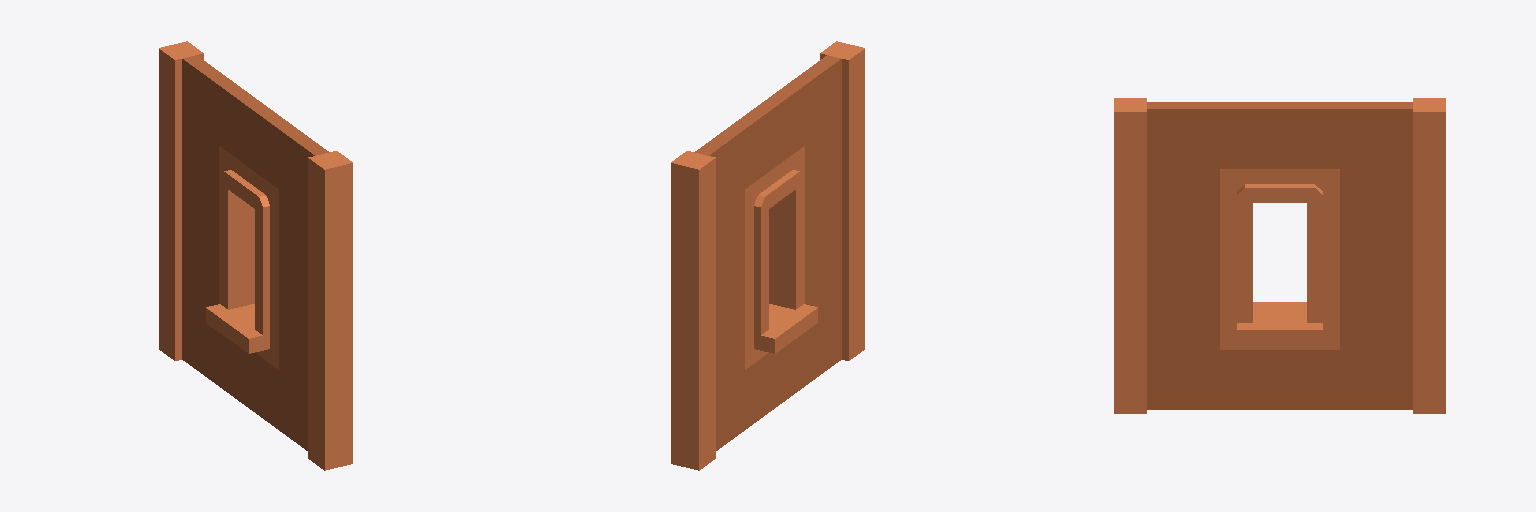
Rendered from wallWoodWindowSmall.obj.
3 renders of one model, left to right at view 1: azimuth 30°, elevation 25°; view 2: azimuth 150°, elevation 25°; view 3: azimuth 270°, elevation 25°, orthographic.
Visible parts, largest first — view 1: wallWoodWindowSmall; view 2: wallWoodWindowSmall; view 3: wallWoodWindowSmall.
Part boxes in pixels (x1,y1,x2,y2): wallWoodWindowSmall: (159, 41, 352, 470); wallWoodWindowSmall: (671, 41, 864, 470); wallWoodWindowSmall: (1114, 98, 1445, 413).
Bounding box in the file's own units: 0.2 × 1 × 1.